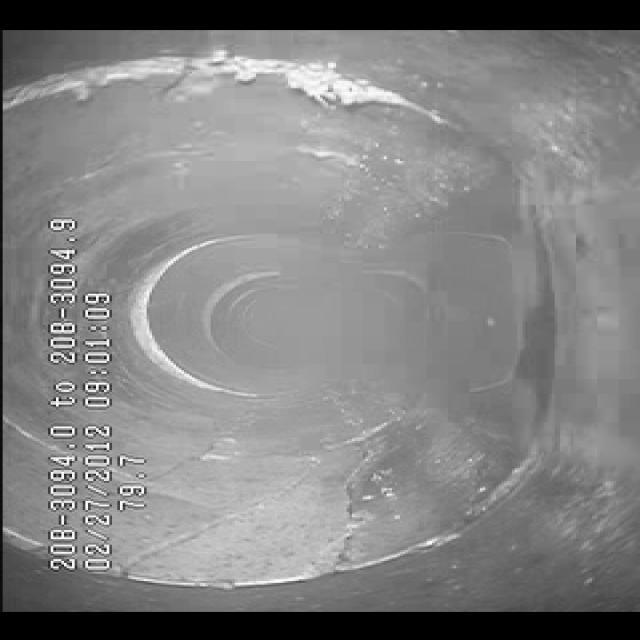Fracture: (134, 414, 396, 588)
